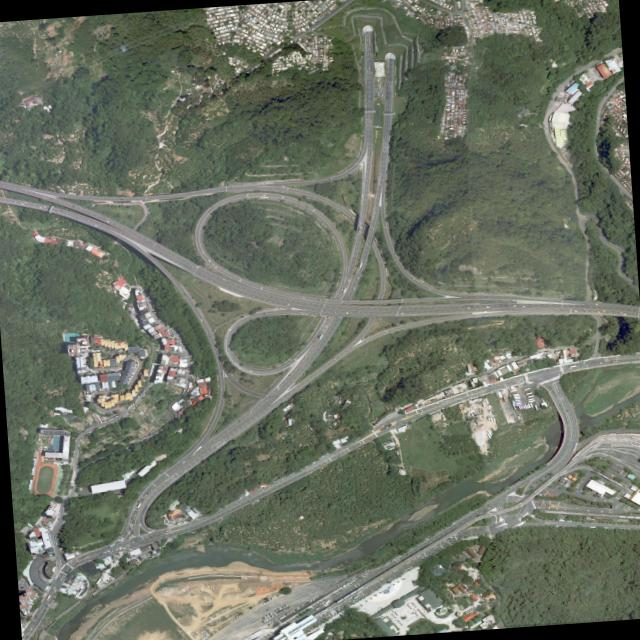large-vehicle: (325, 599, 330, 604), (46, 595, 51, 600), (286, 610, 291, 615), (318, 334, 323, 339), (279, 615, 285, 619), (109, 543, 115, 547), (527, 394, 533, 398), (523, 387, 529, 391), (343, 287, 347, 293), (528, 399, 535, 402), (527, 397, 534, 400), (525, 392, 532, 395), (358, 226, 361, 233), (137, 502, 141, 507), (529, 402, 533, 407), (534, 404, 538, 409), (527, 403, 531, 408), (353, 595, 359, 598), (513, 393, 519, 396), (516, 403, 522, 406), (514, 395, 520, 398), (513, 394, 519, 397), (524, 404, 527, 409), (359, 262, 362, 267), (569, 365, 576, 367), (315, 607, 319, 610), (526, 404, 529, 408), (515, 402, 521, 404), (515, 397, 520, 399)
small-vehicle: (195, 265, 199, 268), (20, 202, 24, 205), (79, 438, 82, 442), (110, 417, 114, 420), (264, 397, 268, 400), (268, 395, 272, 398), (276, 385, 279, 389), (293, 358, 297, 361), (153, 311, 157, 314), (351, 216, 354, 220), (134, 506, 137, 509), (141, 497, 144, 500), (144, 494, 147, 497), (83, 558, 86, 561), (267, 616, 270, 619), (264, 615, 267, 618), (269, 612, 272, 615), (266, 613, 269, 616), (267, 623, 270, 626), (267, 598, 270, 601), (280, 592, 283, 595), (53, 590, 56, 593), (76, 561, 79, 564), (77, 444, 80, 447), (270, 614, 273, 617), (183, 292, 186, 295), (191, 265, 194, 268), (182, 460, 185, 463), (192, 453, 195, 456), (277, 388, 280, 391), (233, 360, 236, 363), (226, 349, 229, 352), (158, 319, 161, 322), (189, 362, 192, 365), (60, 574, 63, 577), (557, 373, 560, 376), (264, 618, 267, 621), (575, 486, 578, 489), (488, 507, 491, 510), (273, 610, 276, 613), (285, 604, 288, 607), (259, 621, 262, 624), (341, 288, 344, 291), (333, 357, 336, 360), (114, 549, 118, 551), (165, 529, 169, 531), (81, 555, 85, 557), (286, 304, 290, 306), (42, 197, 46, 199), (42, 205, 46, 207), (38, 206, 42, 208), (301, 296, 305, 298), (248, 411, 252, 413), (248, 370, 252, 372), (151, 309, 155, 311), (584, 310, 588, 312), (612, 360, 616, 362), (404, 415, 408, 417), (360, 574, 364, 576), (364, 573, 368, 575), (400, 312, 404, 314), (522, 305, 525, 307), (103, 551, 106, 553), (129, 527, 131, 530), (131, 534, 133, 537), (131, 527, 133, 530), (131, 524, 133, 527), (147, 491, 149, 494), (150, 488, 152, 491), (107, 550, 110, 552), (270, 622, 273, 624), (299, 605, 301, 608), (294, 608, 296, 611), (302, 603, 304, 606), (305, 602, 307, 605), (306, 601, 308, 604), (310, 599, 312, 602), (270, 597, 272, 600), (262, 601, 265, 603), (30, 627, 32, 630), (53, 586, 55, 589), (65, 573, 67, 576), (221, 278, 224, 280), (208, 259, 210, 262), (201, 250, 203, 253), (298, 202, 301, 204), (262, 194, 265, 196), (152, 244, 155, 246), (106, 220, 109, 222), (72, 205, 75, 207), (85, 210, 88, 212), (94, 224, 97, 226), (76, 217, 79, 219), (55, 210, 58, 212), (61, 209, 64, 211), (24, 201, 27, 203), (12, 201, 15, 203), (200, 318, 202, 321), (183, 469, 186, 471), (104, 420, 107, 422), (115, 415, 118, 417), (134, 400, 136, 403), (143, 393, 145, 396), (304, 354, 307, 356), (208, 334, 210, 337), (162, 323, 165, 325), (167, 325, 170, 327), (189, 355, 192, 357), (269, 615, 271, 618), (266, 618, 269, 620), (392, 559, 395, 561), (398, 555, 401, 557), (337, 606, 340, 608), (348, 600, 351, 602), (352, 599, 355, 601), (266, 609, 269, 611), (131, 541, 134, 543), (58, 578, 60, 581), (59, 548, 62, 550), (91, 426, 94, 428), (88, 431, 91, 433), (91, 430, 94, 432), (387, 562, 390, 564), (595, 303, 598, 305), (521, 383, 523, 386), (484, 385, 487, 387), (475, 388, 478, 390), (445, 400, 448, 402), (381, 425, 384, 427), (268, 486, 271, 488), (123, 415, 126, 417), (139, 400, 142, 402), (580, 480, 583, 482), (577, 483, 580, 485), (576, 485, 579, 487), (611, 475, 614, 477), (610, 474, 613, 476), (420, 410, 423, 412), (282, 606, 285, 608), (278, 607, 280, 610), (275, 612, 278, 614), (275, 609, 278, 611), (279, 607, 282, 609), (261, 621, 264, 623), (340, 300, 343, 302), (484, 310, 487, 312), (353, 287, 355, 290), (357, 276, 359, 279), (327, 316, 330, 318), (365, 339, 368, 341), (602, 309, 605, 311), (623, 313, 626, 315), (119, 548, 121, 550), (129, 533, 131, 535), (133, 517, 135, 519), (134, 514, 136, 516), (135, 510, 137, 512), (137, 500, 139, 502), (77, 454, 79, 456), (273, 621, 275, 623), (298, 606, 300, 608), (296, 607, 298, 609), (312, 598, 314, 600), (265, 600, 267, 602), (278, 594, 280, 596), (279, 593, 281, 595), (212, 264, 214, 266), (143, 198, 147, 199), (132, 403, 134, 405), (156, 316, 158, 318), (263, 616, 265, 618), (58, 575, 60, 577), (64, 571, 66, 573), (59, 509, 61, 511), (74, 440, 76, 442), (77, 451, 79, 453), (103, 425, 105, 427), (137, 402, 139, 404), (385, 563, 387, 565), (566, 409, 568, 411), (518, 384, 520, 386), (517, 385, 519, 387), (478, 387, 480, 389), (287, 606, 289, 608), (277, 611, 279, 613), (263, 620, 265, 622), (347, 279, 349, 281), (596, 311, 600, 312), (118, 547, 121, 548), (122, 547, 125, 548), (130, 530, 131, 533), (293, 609, 294, 612), (120, 198, 123, 199), (130, 404, 131, 407), (574, 310, 577, 311), (337, 609, 340, 610), (60, 551, 63, 552), (59, 547, 62, 548), (151, 383, 152, 386), (582, 309, 585, 310), (630, 308, 633, 309), (599, 362, 602, 363), (581, 363, 584, 364), (519, 358, 522, 359), (523, 383, 524, 386), (513, 305, 516, 306), (329, 178, 332, 179), (318, 299, 321, 300), (333, 311, 336, 312), (356, 311, 359, 312), (352, 577, 355, 578), (467, 307, 470, 308), (345, 312, 348, 313), (486, 306, 489, 307), (619, 312, 622, 313), (130, 524, 131, 526), (73, 450, 74, 452), (264, 313, 266, 314), (262, 618, 264, 619), (25, 639, 27, 640), (57, 538, 59, 539), (55, 523, 56, 525), (99, 427, 101, 428), (129, 406, 130, 408), (396, 557, 398, 558), (528, 383, 530, 384), (524, 383, 525, 385), (489, 384, 491, 385), (393, 251, 394, 253)
